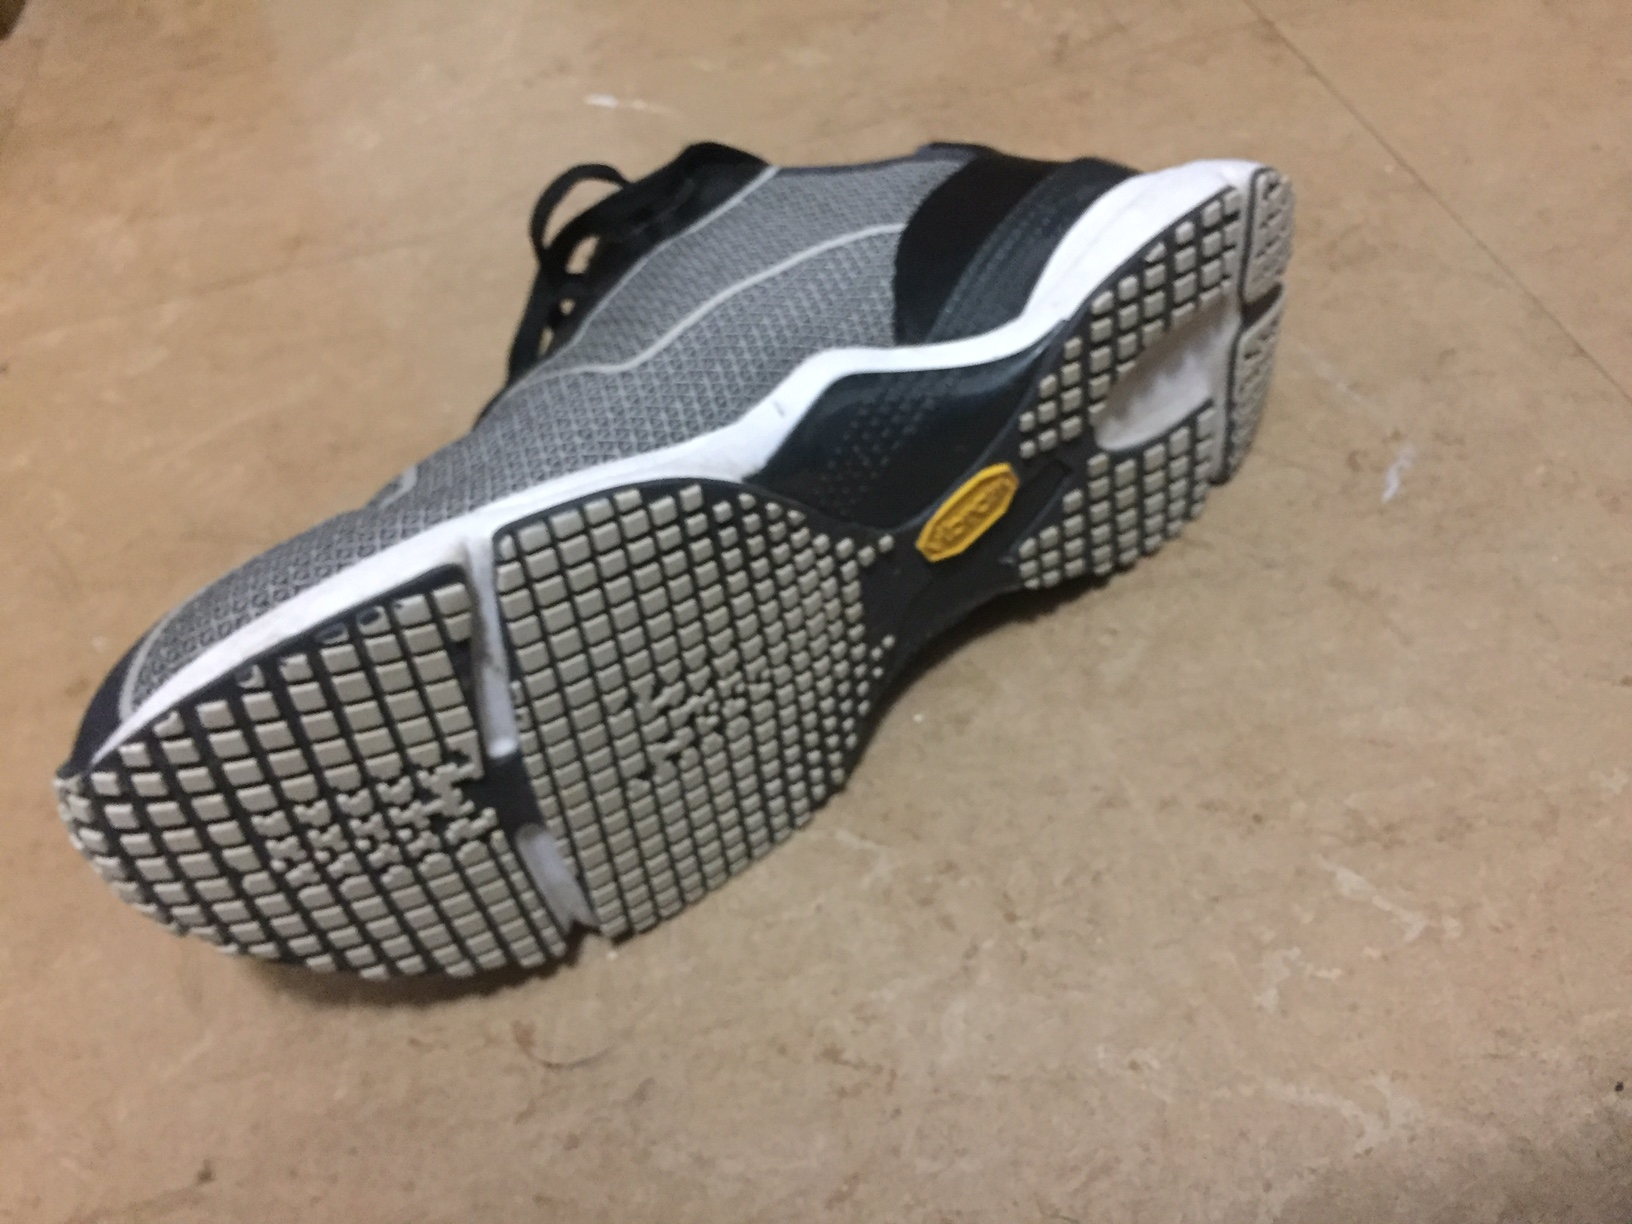car: (48, 114, 1286, 995)
